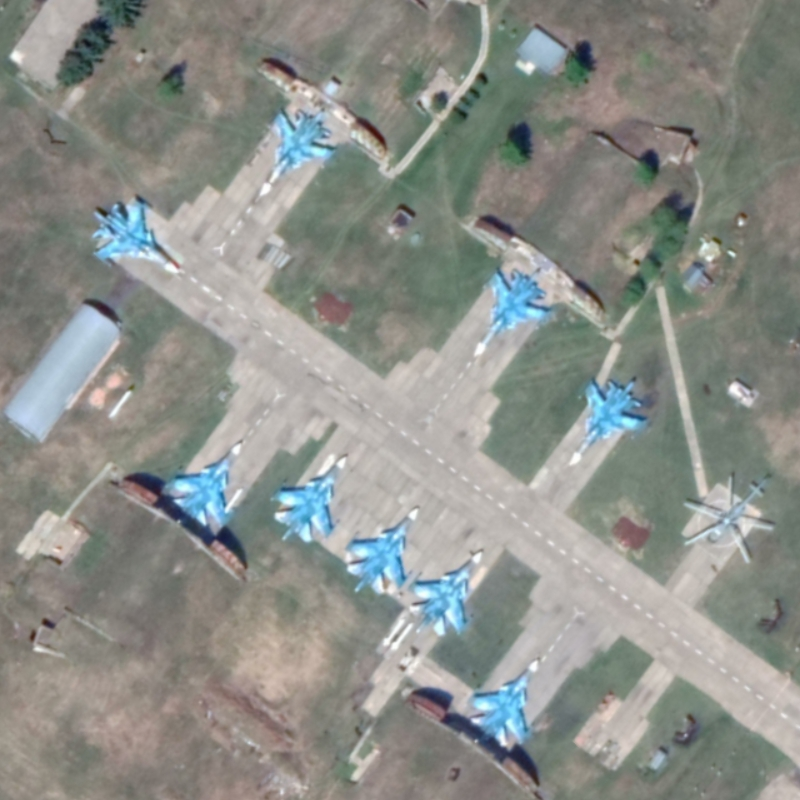A19: (471, 267, 555, 360), (160, 440, 243, 533), (89, 196, 183, 275), (568, 377, 650, 467), (257, 106, 337, 198), (268, 454, 348, 545), (343, 506, 421, 597), (407, 549, 485, 638), (468, 658, 542, 750)
